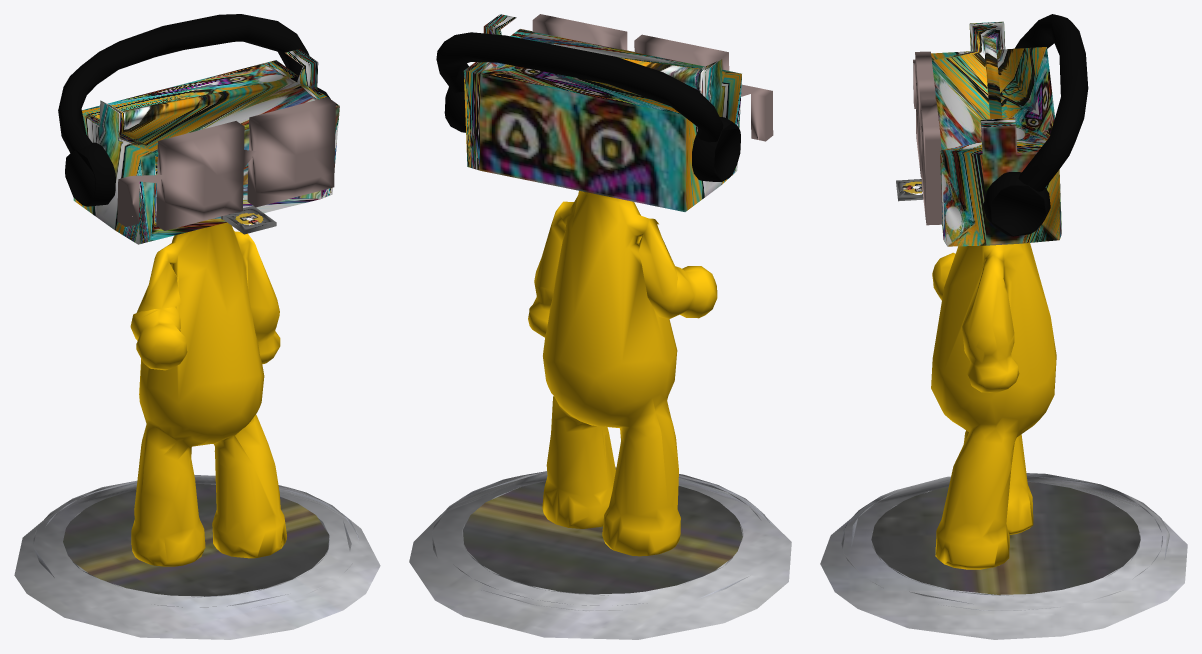
The picture shows the model from 3 angles, left to right: view 1: azimuth 30°, elevation 25°; view 2: azimuth 150°, elevation 25°; view 3: azimuth 270°, elevation 25°; orthographic projection. The views are drawn at different scales.
Bounding box in the file's own units: 1.44 × 2.22 × 1.43.
Materials: 10 (5 with a texture image).
